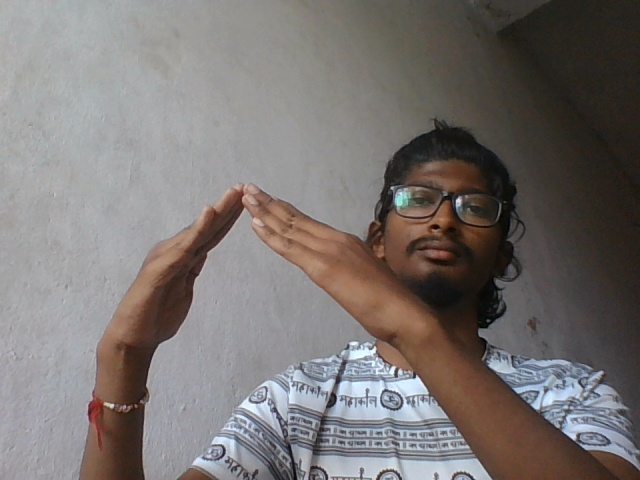Good: (84, 173, 478, 391)
